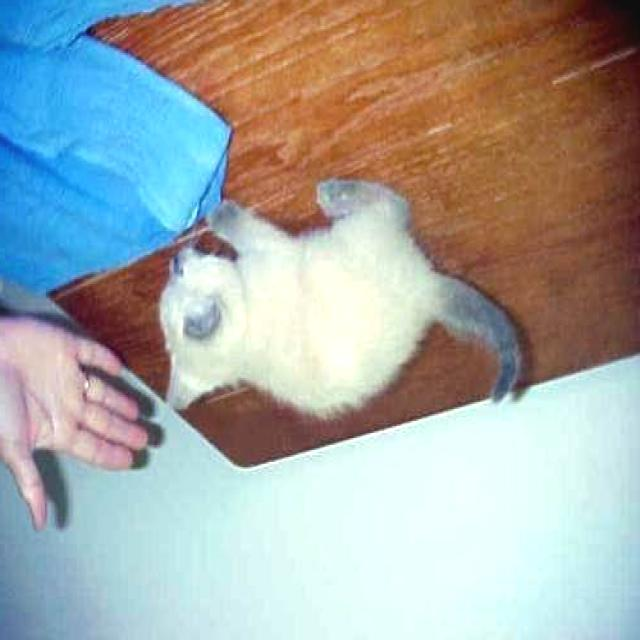Kucing: (136, 108, 544, 444)
